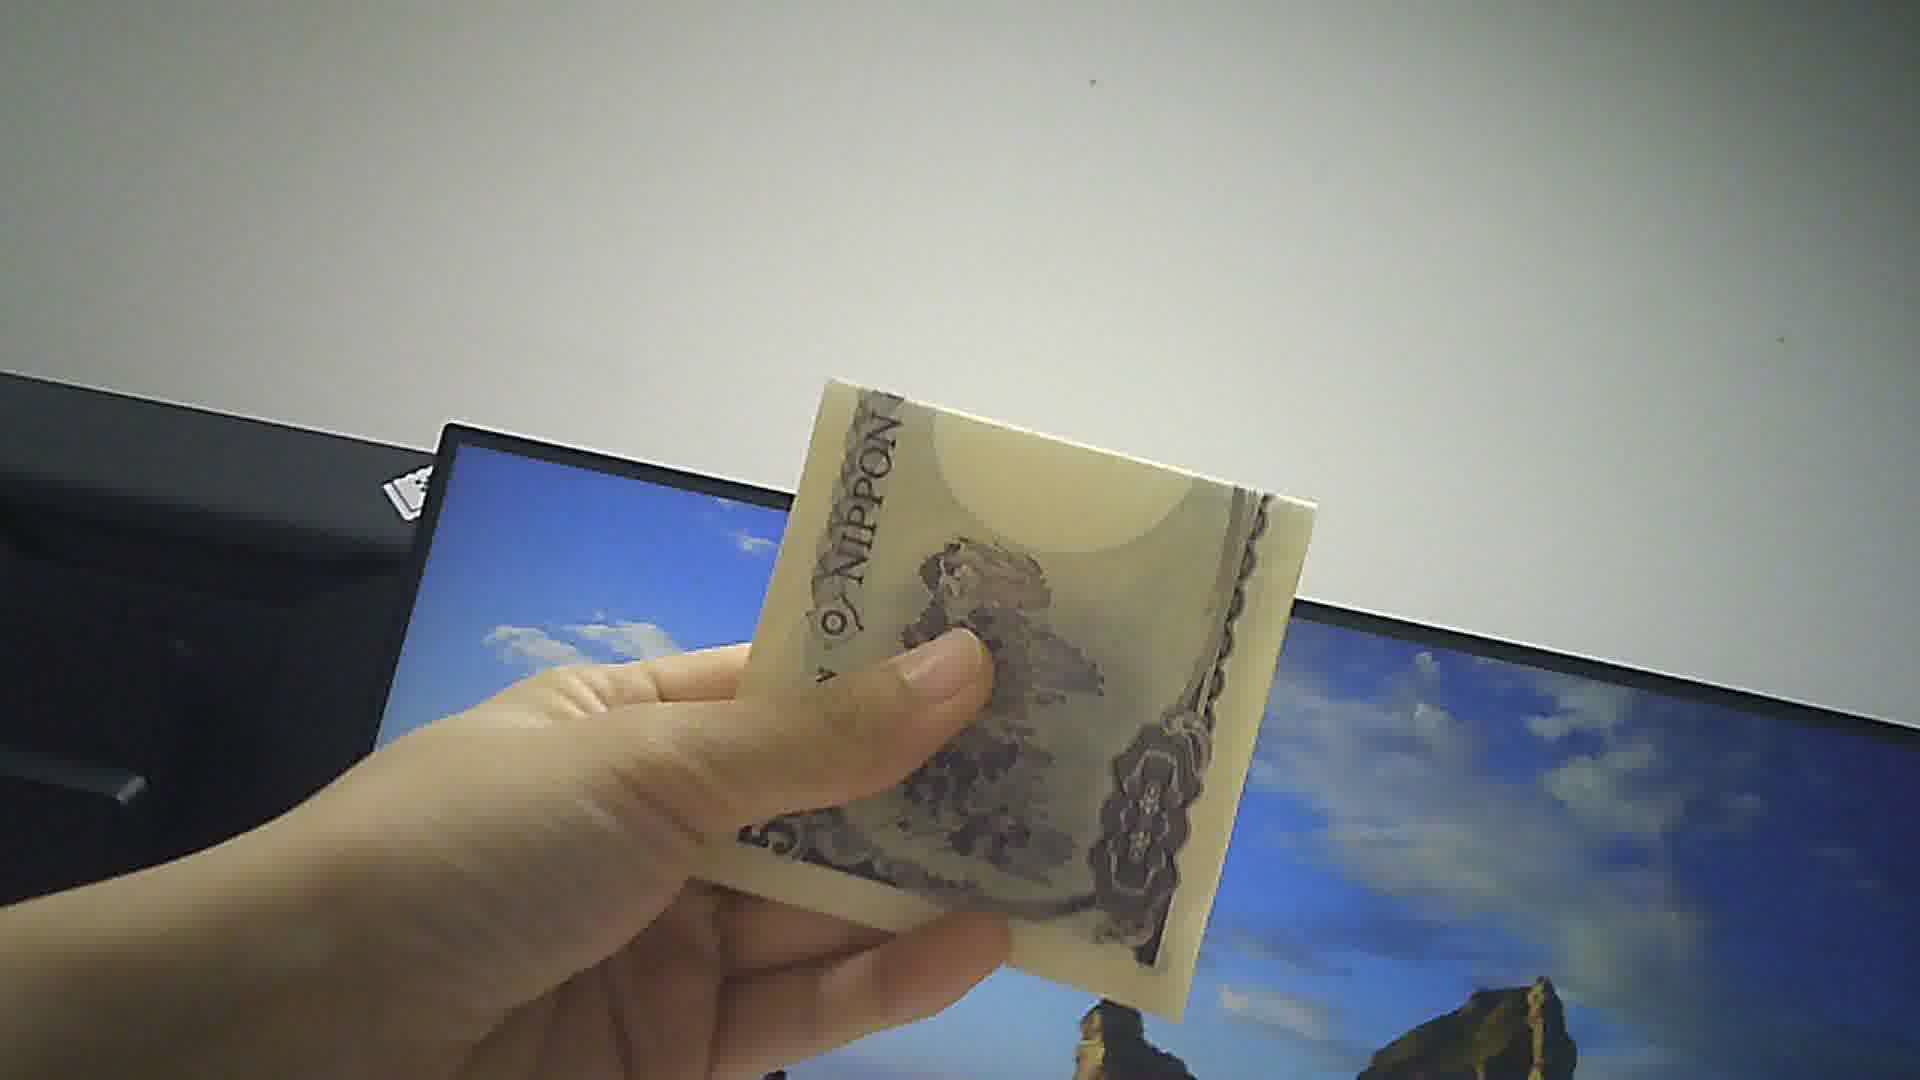5,000 Yen: (688, 352, 1324, 1002)
